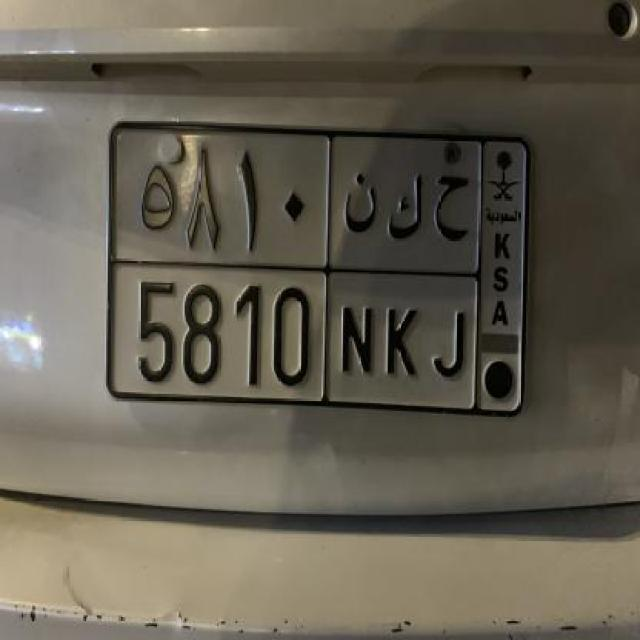license_plate: (100, 113, 536, 430)
